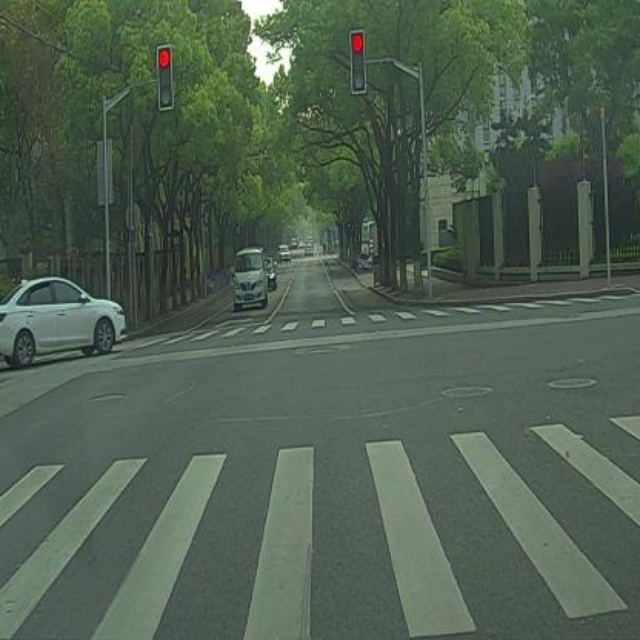Đèn đỏ: (157, 40, 174, 110), (350, 31, 366, 93)
